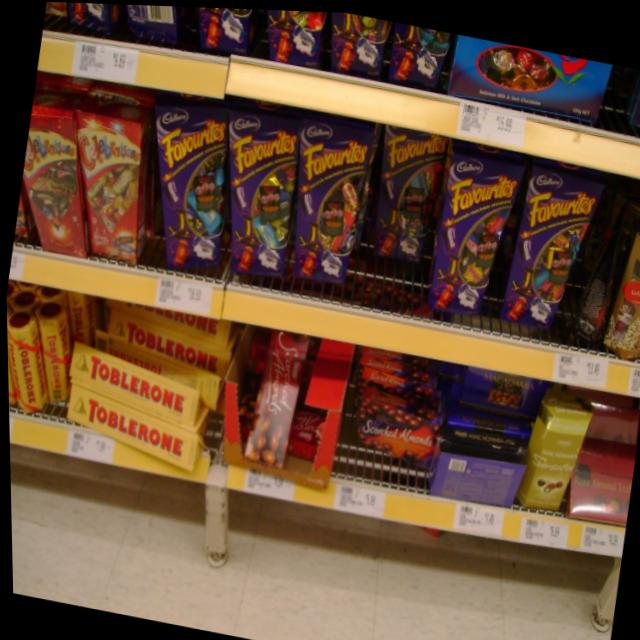q34: (62, 329, 221, 421), (56, 382, 207, 470)
